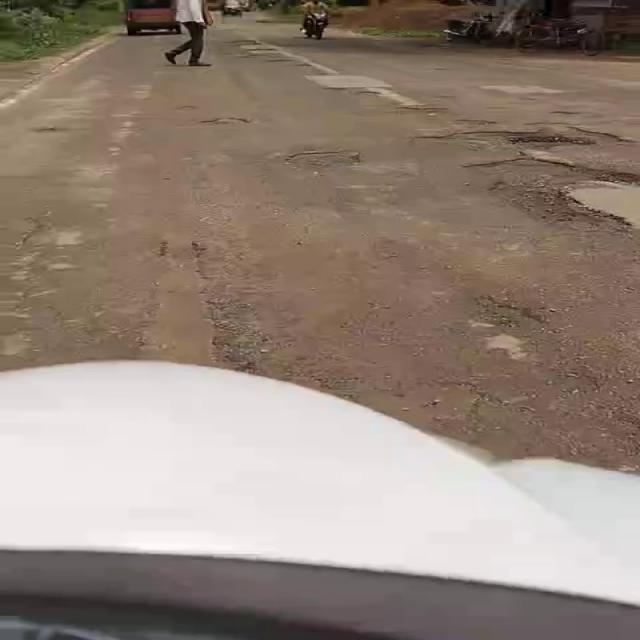pothole: (156, 252, 228, 366), (508, 189, 638, 236), (470, 160, 640, 192), (410, 126, 636, 150), (360, 382, 496, 417), (474, 299, 560, 341), (265, 151, 377, 172), (20, 122, 81, 140), (188, 118, 254, 128), (452, 114, 499, 128), (390, 103, 447, 114), (545, 108, 600, 119), (347, 90, 382, 100), (290, 59, 318, 70), (258, 56, 298, 63), (240, 47, 281, 53), (174, 104, 202, 112), (230, 37, 258, 45)
